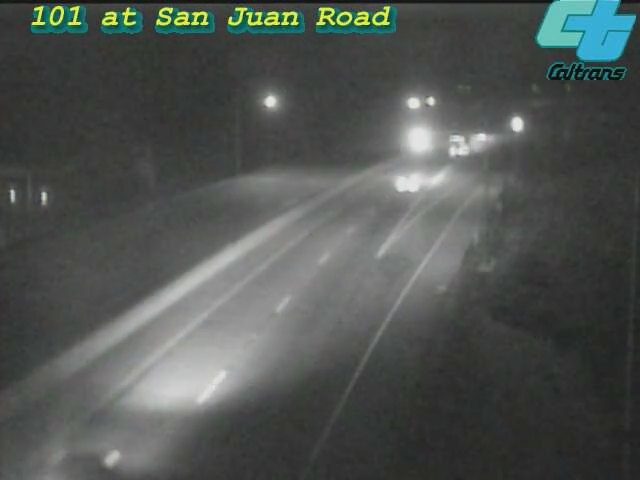vehicle: (25, 413, 135, 480), (371, 141, 451, 221), (400, 113, 450, 163), (498, 99, 548, 149), (458, 113, 508, 163), (433, 123, 483, 173)
